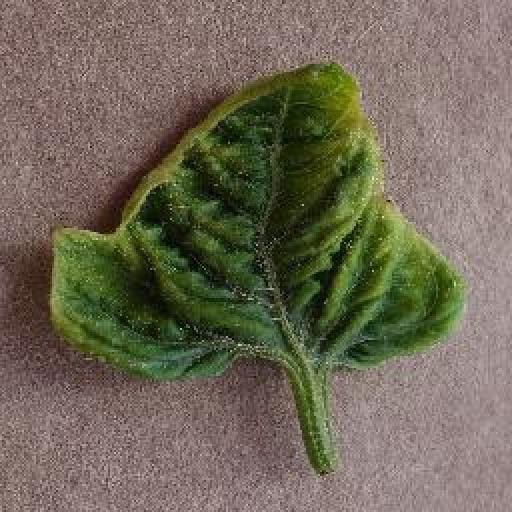disease_tomato: (46, 57, 473, 384)
